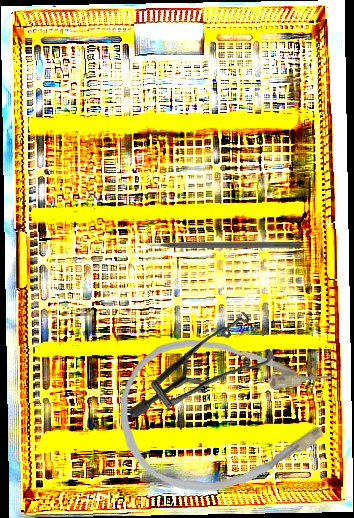Cannula: (118, 335, 340, 494)
Chopper: (137, 233, 302, 248)
Speculum: (130, 309, 277, 420)
